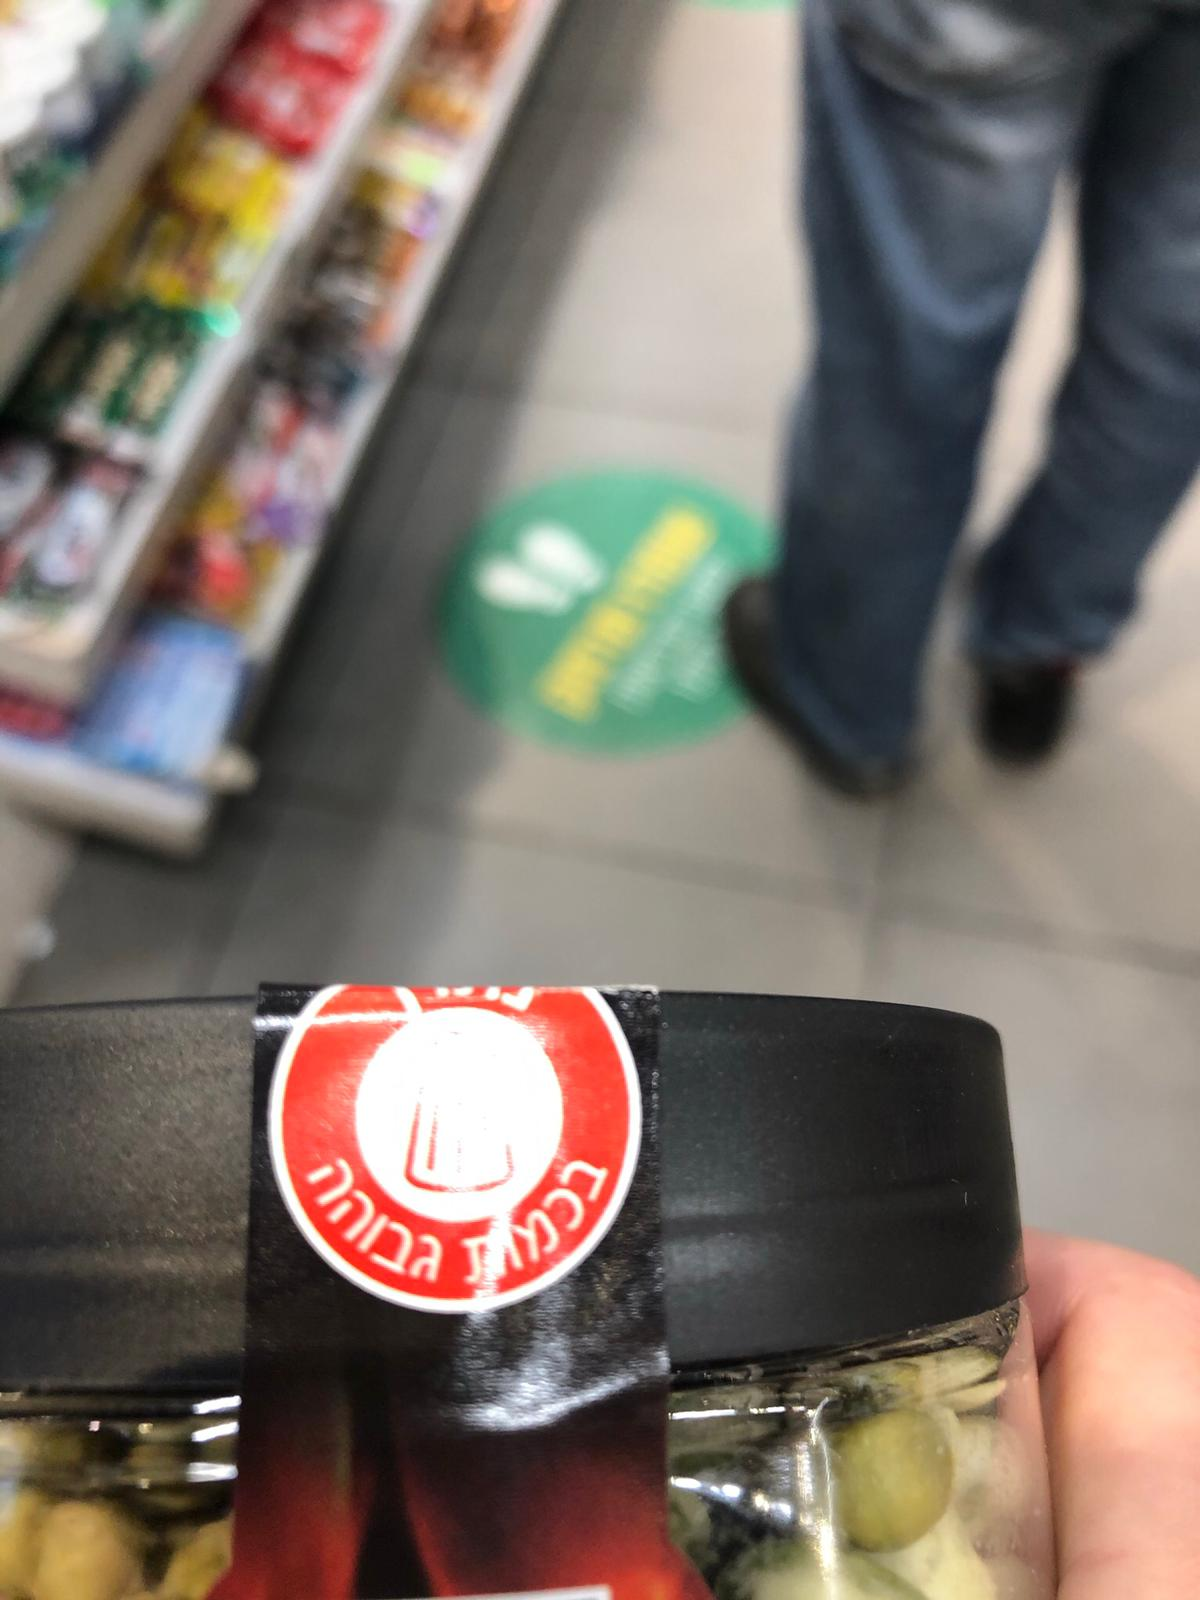salt: (263, 983, 645, 1308)
